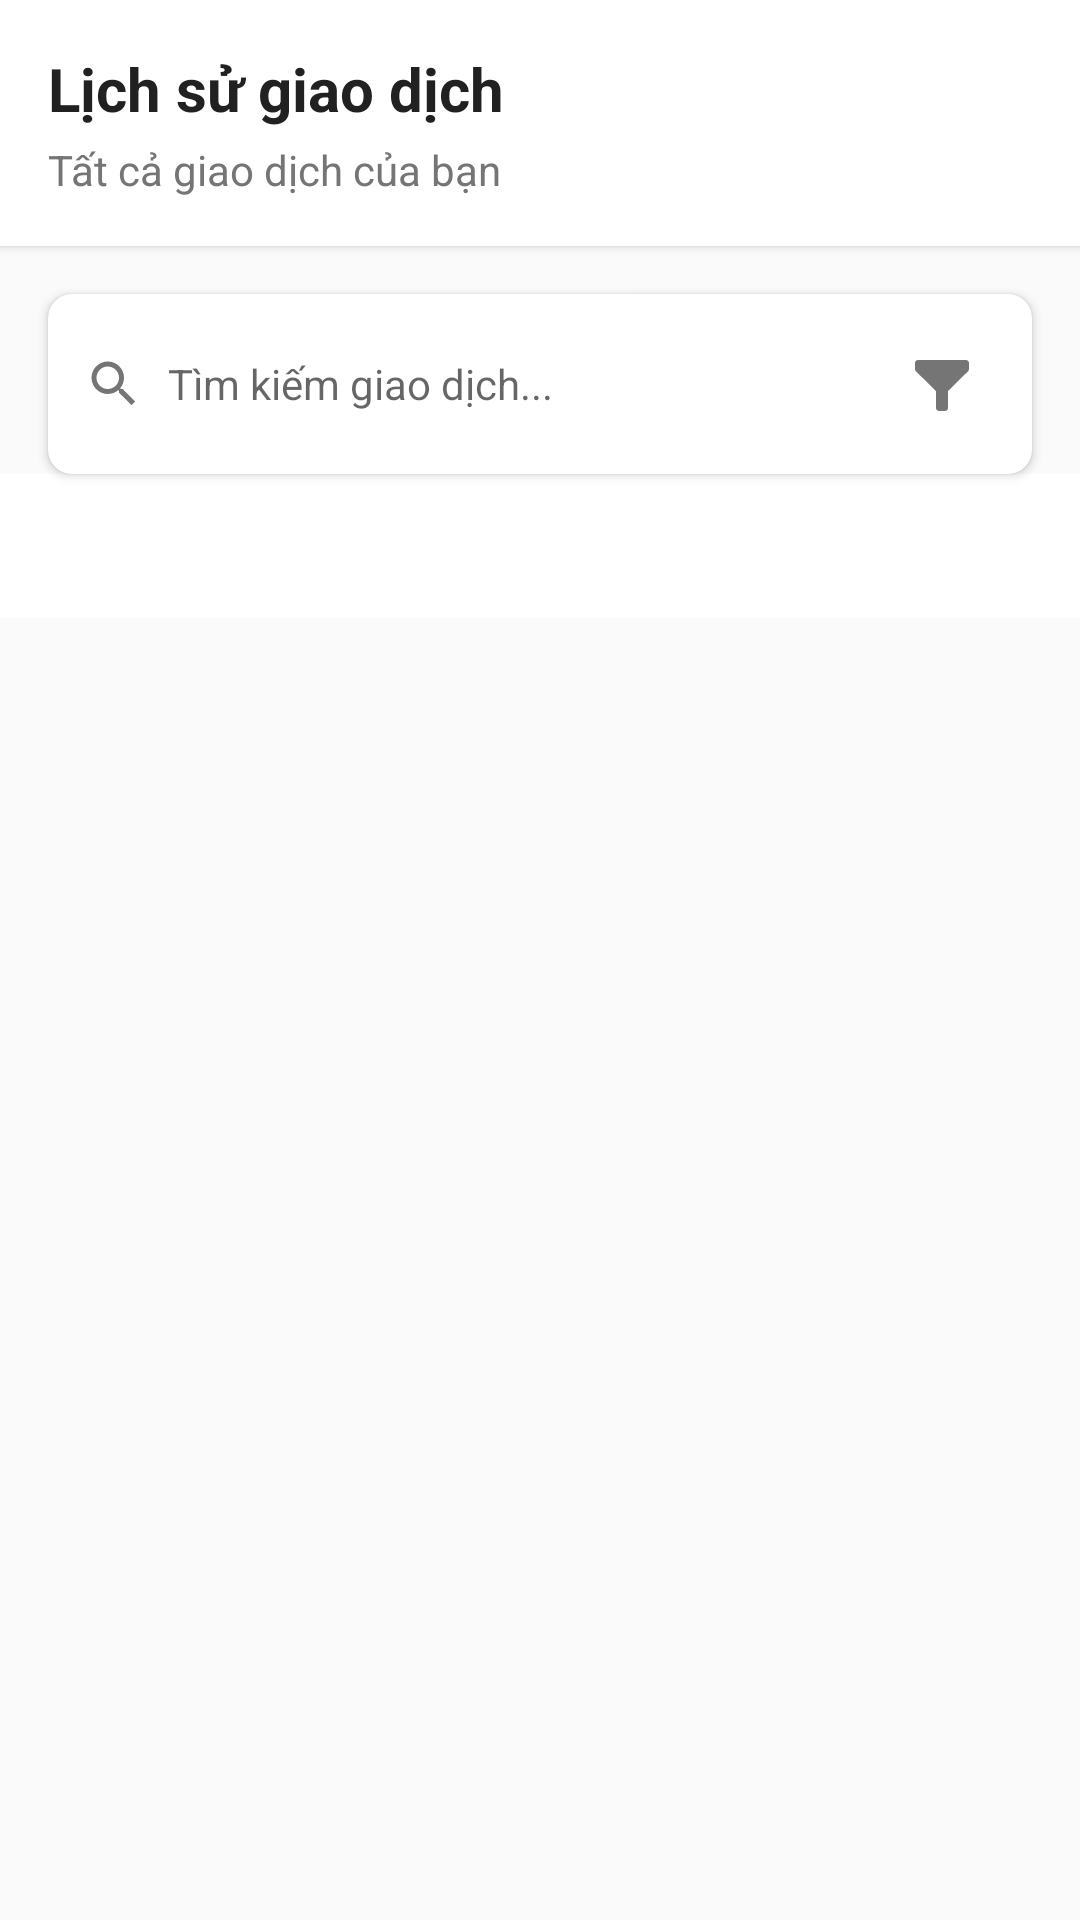

Screen size 1080×1920. Icon name, then its center in pixels as (x,y):
Lọc theo ngày: (942,385)
search: (113,383)
